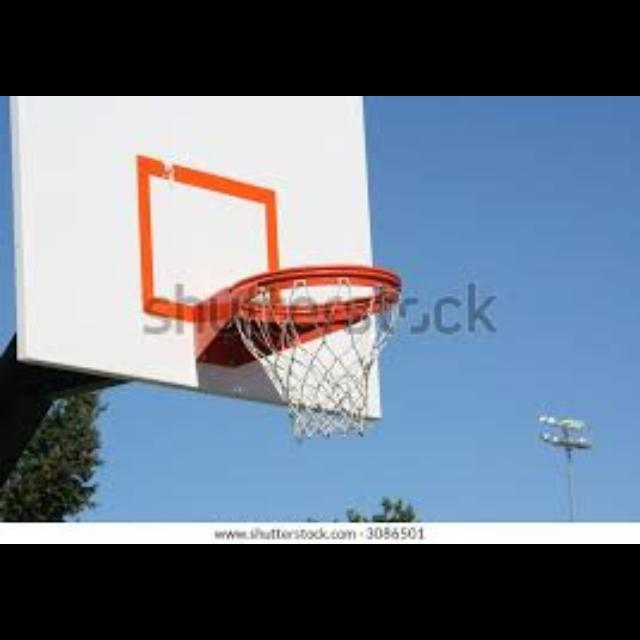rim: (230, 265, 400, 439)
